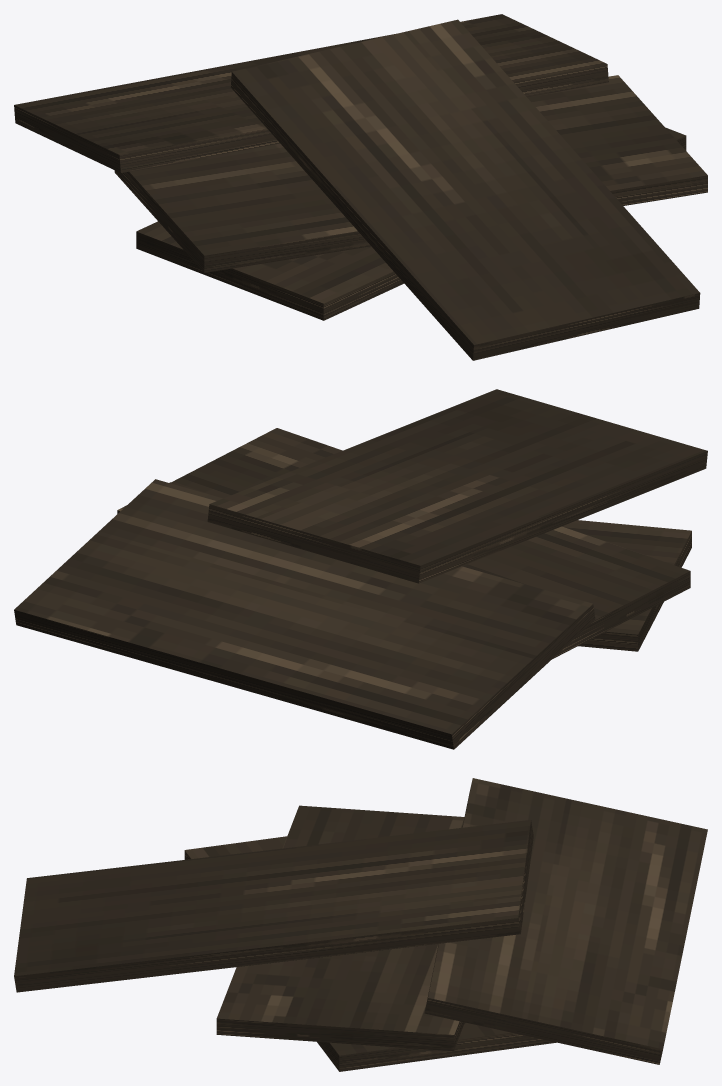
Rendered from PileOfWood.fbx.
3 views of the same model, one above another, from view 1: azimuth 30°, elevation 25°; view 2: azimuth 150°, elevation 25°; view 3: azimuth 270°, elevation 25° (orthographic). The views are drawn at different scales.
Parts seen in each view (by area): view 1: pCube3, pCube2, pCube4, pCube1; view 2: pCube4, pCube3, pCube2, pCube1; view 3: pCube3, pCube4, pCube2, pCube1.
Boxes of the visible parts, x1,y1,x2,y2 form: pCube3: (230, 19, 700, 360); pCube2: (114, 75, 707, 272); pCube4: (14, 14, 608, 172); pCube1: (136, 127, 686, 320); pCube4: (14, 479, 595, 749); pCube3: (207, 389, 707, 583); pCube2: (117, 428, 690, 658); pCube1: (169, 482, 691, 651); pCube3: (14, 820, 533, 992); pCube4: (424, 778, 707, 1064); pCube2: (216, 805, 464, 1051); pCube1: (184, 836, 556, 1071).
Bounding box in the file's own units: 14.33 × 2.6 × 17.77.
